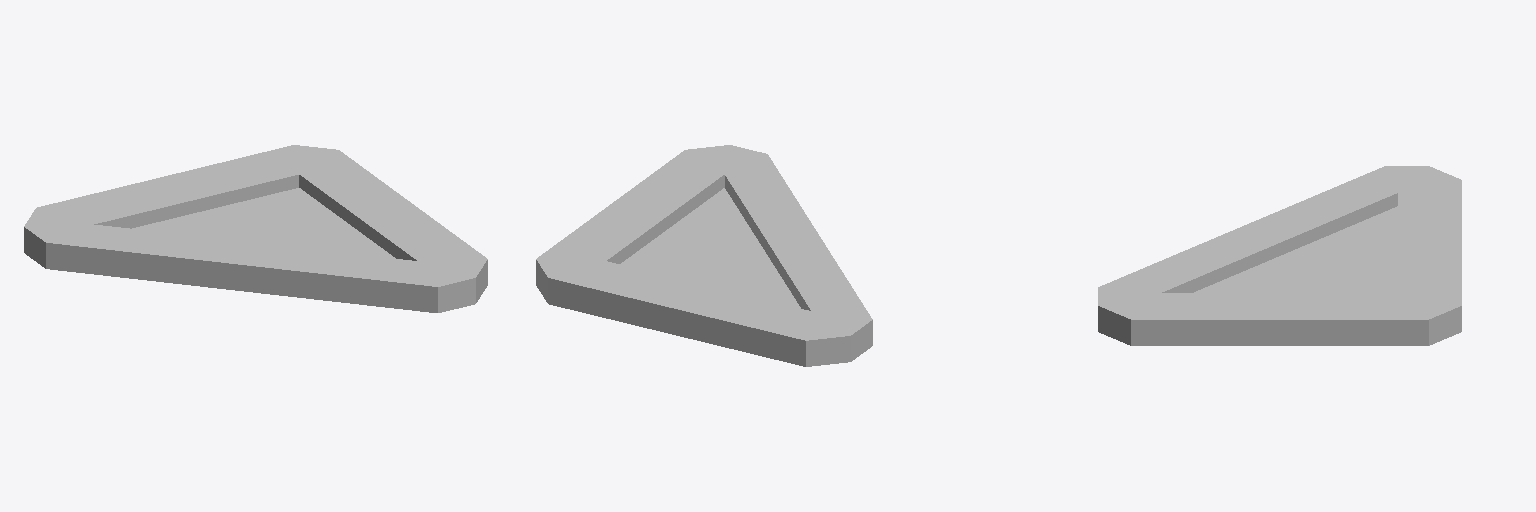
File: metalTileCorner.obj
The picture shows the model from 3 angles: view 1: azimuth 30°, elevation 25°; view 2: azimuth 150°, elevation 25°; view 3: azimuth 270°, elevation 25°; orthographic projection.
Parts seen in each view (by area): view 1: metalTileCorner; view 2: metalTileCorner; view 3: metalTileCorner.
Boxes of the visible parts, x1,y1,x2,y2 form: metalTileCorner: [24, 145, 487, 312]; metalTileCorner: [536, 145, 872, 366]; metalTileCorner: [1098, 166, 1461, 345].
Bounding box in the file's own units: 10 × 0.8 × 10.